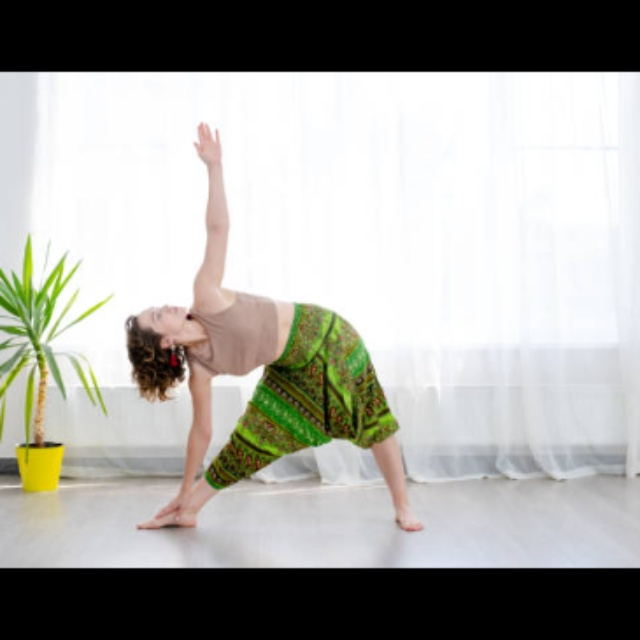Triangle_Pose: (89, 103, 436, 541)
